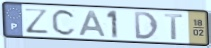1: (105, 9, 120, 40)
A: (78, 10, 108, 38)
C: (50, 8, 78, 37)
D: (133, 11, 160, 40)
T: (163, 13, 185, 41)
Z: (23, 7, 51, 35)
